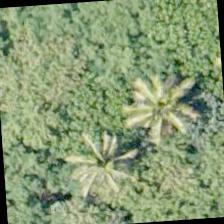Kelapa_Sawit: (54, 105, 150, 201), (111, 53, 208, 148)
